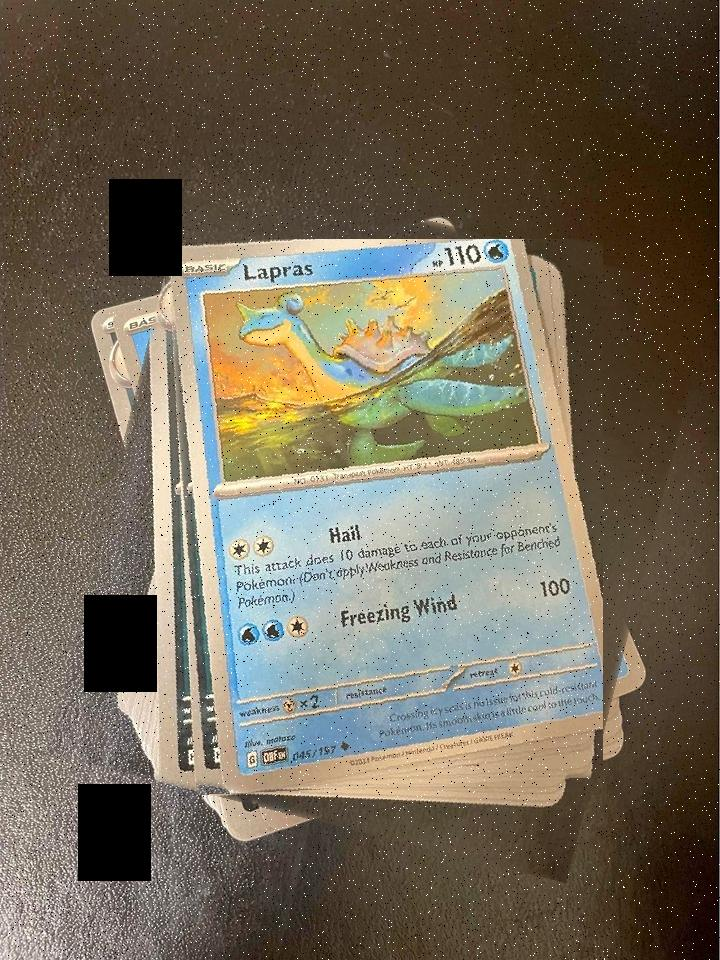card: (170, 239, 603, 793)
